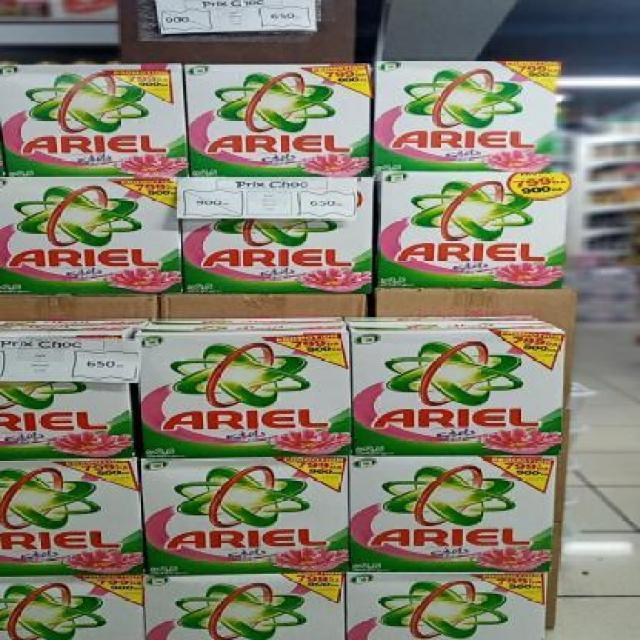Detergent: (355, 330, 564, 456), (136, 336, 350, 454), (139, 457, 350, 575), (350, 455, 553, 573), (176, 179, 368, 297), (369, 171, 560, 289), (184, 62, 372, 179), (371, 58, 557, 174), (0, 63, 180, 179), (0, 175, 180, 291), (0, 459, 140, 579), (0, 339, 134, 457), (345, 570, 548, 639), (146, 575, 349, 639), (0, 576, 148, 639)
